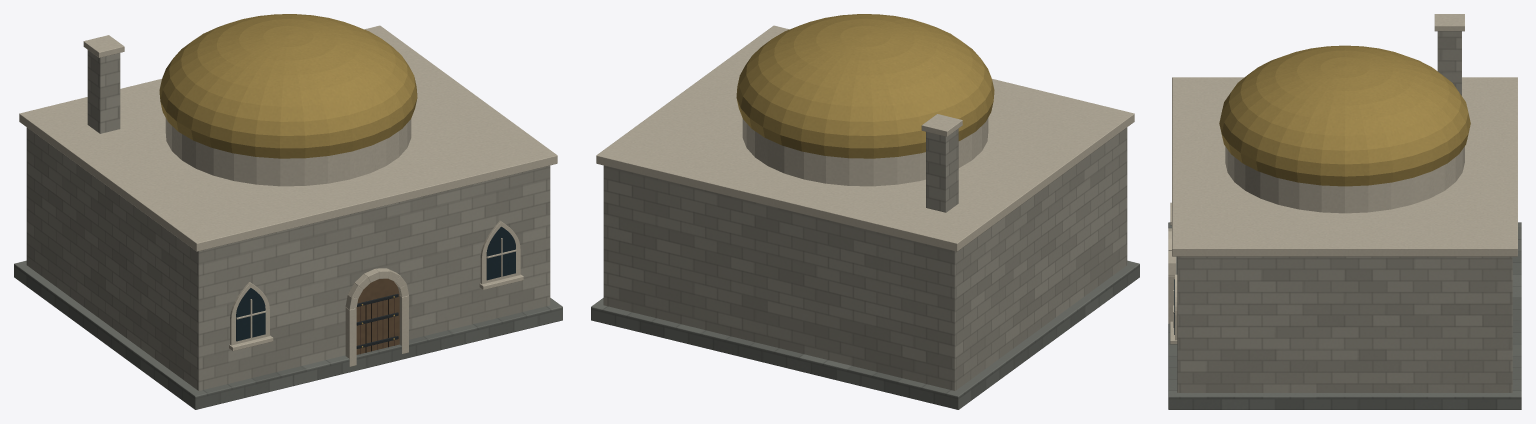
Rendered from Bathhouse.fbx.
The picture shows the model from 3 angles, left to right: view 1: azimuth 30°, elevation 25°; view 2: azimuth 150°, elevation 25°; view 3: azimuth 270°, elevation 25°; orthographic projection. The views are drawn at different scales.
Parts seen in each view (by area): view 1: Bathhouse.001; view 2: Bathhouse.001; view 3: Bathhouse.001.
Boxes of the visible parts, x1=… form: Bathhouse.001: x1=14, y1=14, x2=562, y2=409; Bathhouse.001: x1=591, y1=14, x2=1139, y2=409; Bathhouse.001: x1=1168, y1=14, x2=1521, y2=409.
Size of the model in its own units: 13.8 by 9.45 by 11.81.
